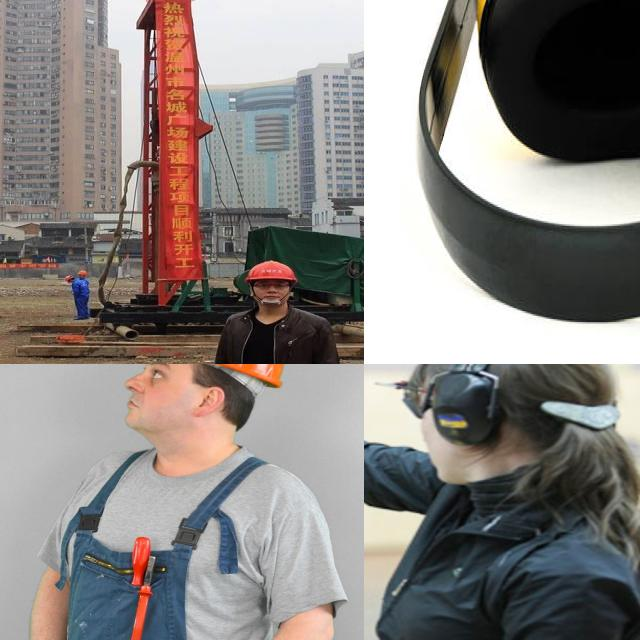Ear-protection: (405, 0, 640, 319), (378, 364, 601, 488)
No_Ear-Protection: (128, 364, 269, 458), (242, 259, 296, 313)
